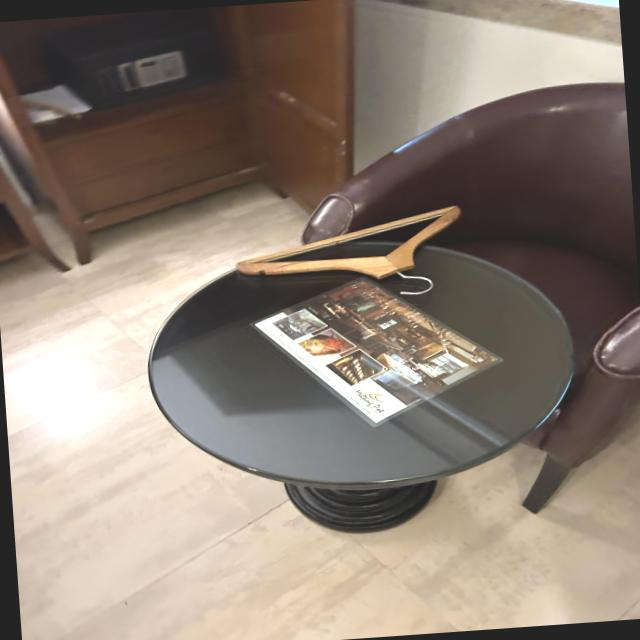mess: (124, 192, 596, 548)
